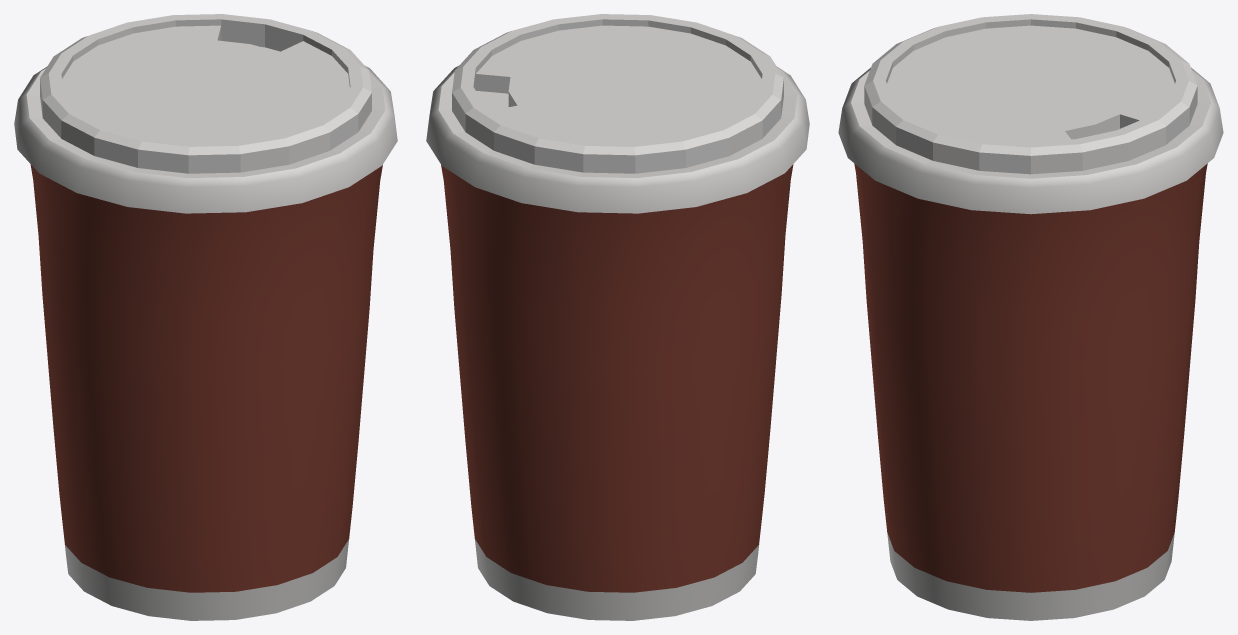
The model's file is CofCup.fbx.
3 views of the same model, side by side, from view 1: azimuth 30°, elevation 25°; view 2: azimuth 150°, elevation 25°; view 3: azimuth 270°, elevation 25° (orthographic).
Visible parts, largest first — view 1: CofCup_GEO; view 2: CofCup_GEO; view 3: CofCup_GEO.
Boxes of the visible parts, bbox=[...] form: CofCup_GEO: bbox=[14, 14, 397, 620]; CofCup_GEO: bbox=[426, 14, 809, 620]; CofCup_GEO: bbox=[838, 14, 1223, 620].
Size of the model in its own units: 6.82 by 9.4 by 6.82.
